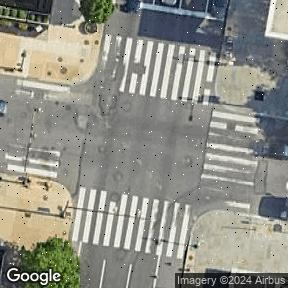vegetation: (21, 238, 80, 288)
